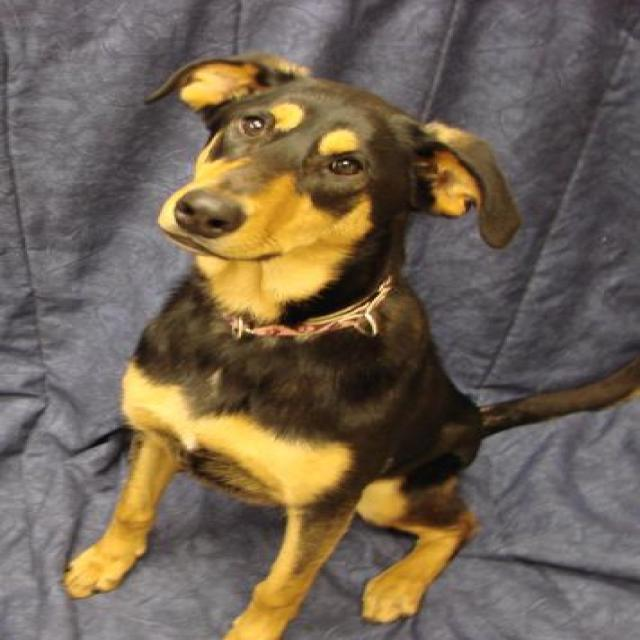Dogs: (59, 50, 638, 639)
